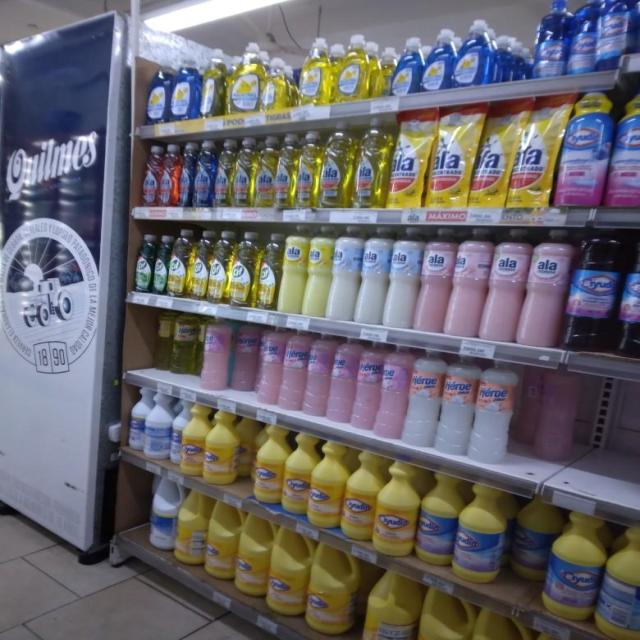ala_conc_amarillo: (354, 118, 388, 209), (320, 124, 352, 208), (296, 130, 319, 208), (275, 133, 296, 209), (254, 135, 275, 208), (233, 136, 254, 208), (215, 138, 232, 208)
ala_conc_azul: (195, 140, 214, 207), (179, 142, 194, 207)
ala_conc_rojo: (160, 143, 179, 207), (142, 144, 160, 207)
ala_crem_amarillo: (281, 226, 306, 315), (307, 227, 331, 318)
ala_crem_blanco: (388, 226, 419, 330), (360, 225, 388, 326), (332, 225, 359, 322)
ala_crem_rosado: (526, 228, 569, 349), (488, 228, 525, 344), (452, 226, 487, 340), (421, 226, 452, 335)
ala_sachet_amarillo: (511, 94, 556, 208), (429, 104, 472, 208), (474, 99, 511, 208), (389, 109, 427, 209)
cif_conc_bot_amarilla: (230, 230, 257, 308), (258, 231, 280, 311), (209, 230, 229, 304), (169, 229, 189, 298), (190, 229, 208, 301)
cif_conc_botella_verde: (134, 232, 152, 294), (153, 233, 168, 296)
heroe: (473, 358, 518, 465), (439, 354, 473, 456), (406, 349, 439, 449), (200, 317, 230, 391), (280, 330, 304, 412), (257, 326, 280, 406), (231, 322, 256, 393), (170, 313, 198, 376)
magistral_con_amarillo: (227, 42, 260, 115)
magistral_con_azul: (454, 18, 494, 88), (422, 28, 453, 92), (170, 57, 198, 121), (147, 64, 169, 124)
